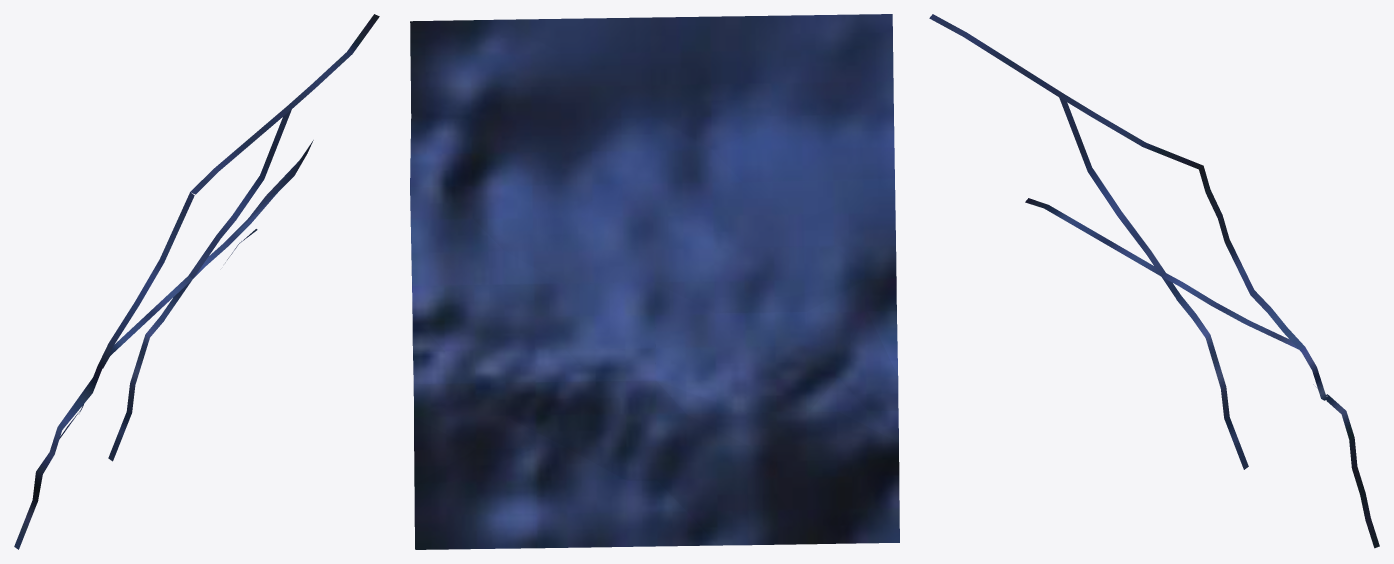
3 views of the same model, side by side, from view 1: azimuth 30°, elevation 25°; view 2: azimuth 150°, elevation 25°; view 3: azimuth 270°, elevation 25° (orthographic). The views are drawn at different scales.
Size of the model in its own units: 19178 by 18373 by 17253.
1 material, 1 textured.
